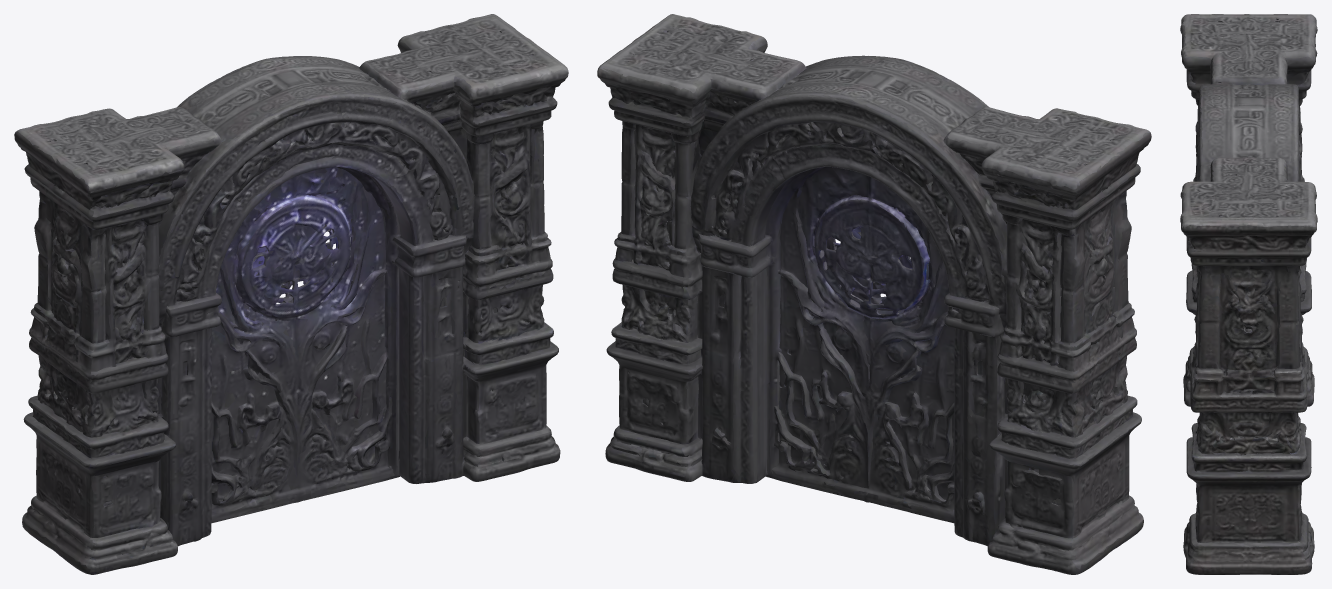
File: gate.glb
The picture shows the model from 3 angles, left to right: view 1: azimuth 30°, elevation 25°; view 2: azimuth 150°, elevation 25°; view 3: azimuth 270°, elevation 25°; orthographic projection. The views are drawn at different scales.
Parts seen in each view (by area): view 1: geometry_0; view 2: geometry_0; view 3: geometry_0.
Boxes of the visible parts, left/top/right/bottom form: geometry_0: left=14, top=14, right=568, bottom=574; geometry_0: left=597, top=14, right=1151, bottom=574; geometry_0: left=1180, top=14, right=1317, bottom=574.
Size of the model in its own units: 0.35 by 0.2909 by 0.0968.
1 material, 1 textured.
